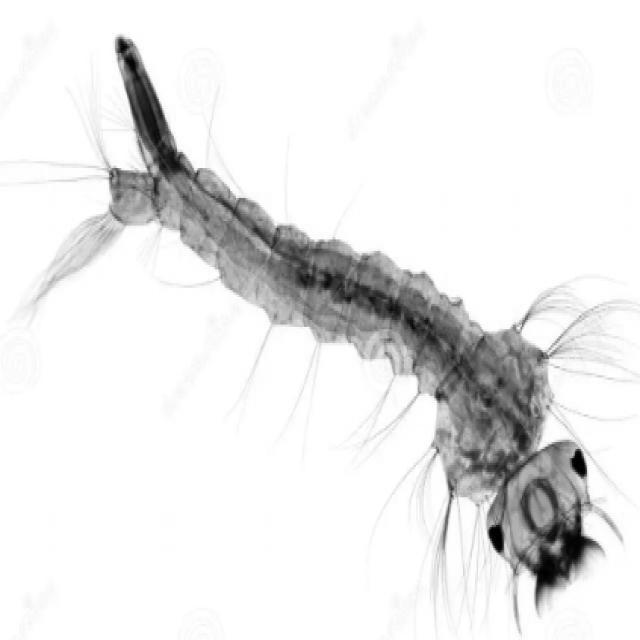larvas: (101, 48, 596, 587)
